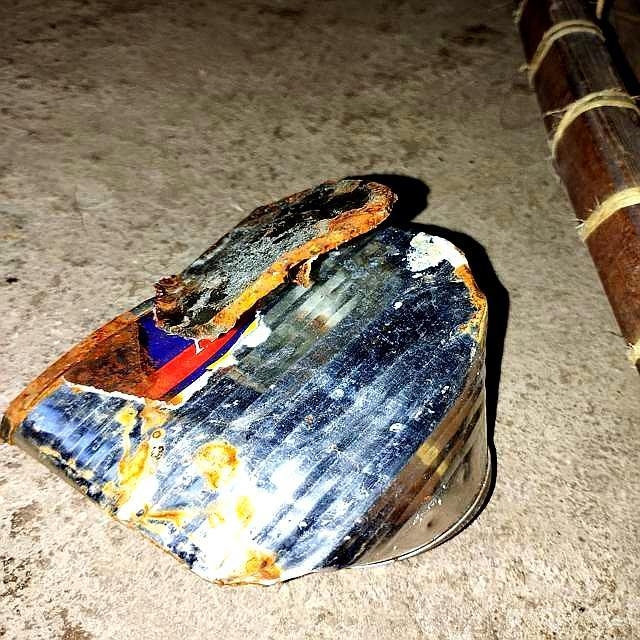Non-biodegradable: (2, 175, 498, 589)
